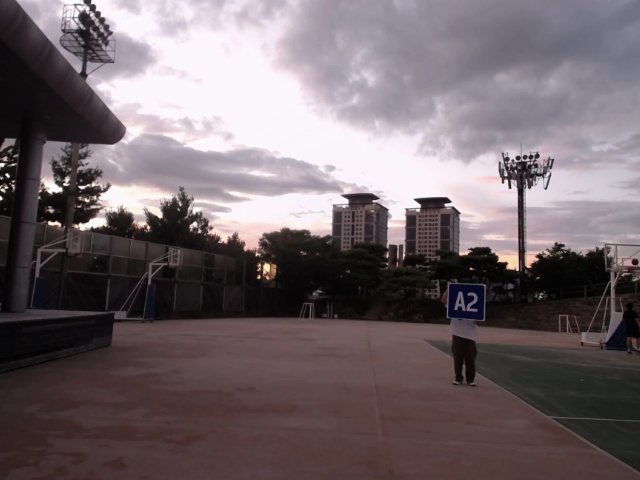delivery_a2: (448, 283, 486, 320)
